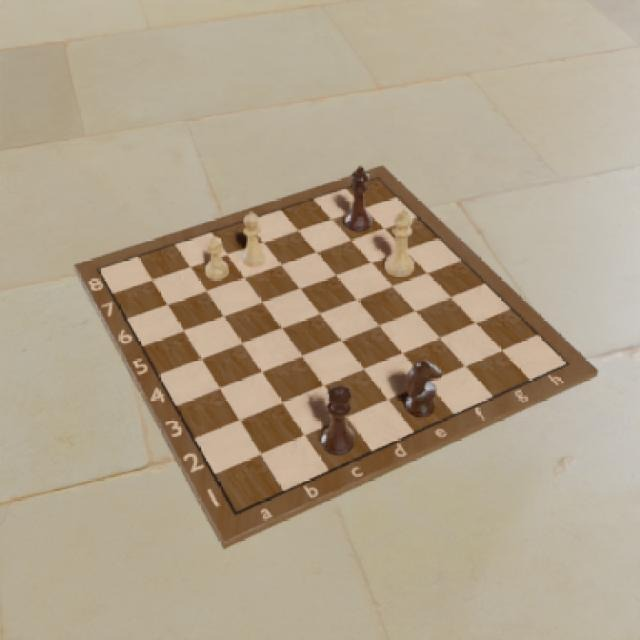black-king: (341, 164, 371, 234)
black-knight: (403, 357, 445, 420)
black-queen: (318, 381, 357, 458)
white-bishop: (238, 209, 269, 269)
white-king: (382, 207, 418, 281)
white-pawn: (203, 237, 231, 283)
